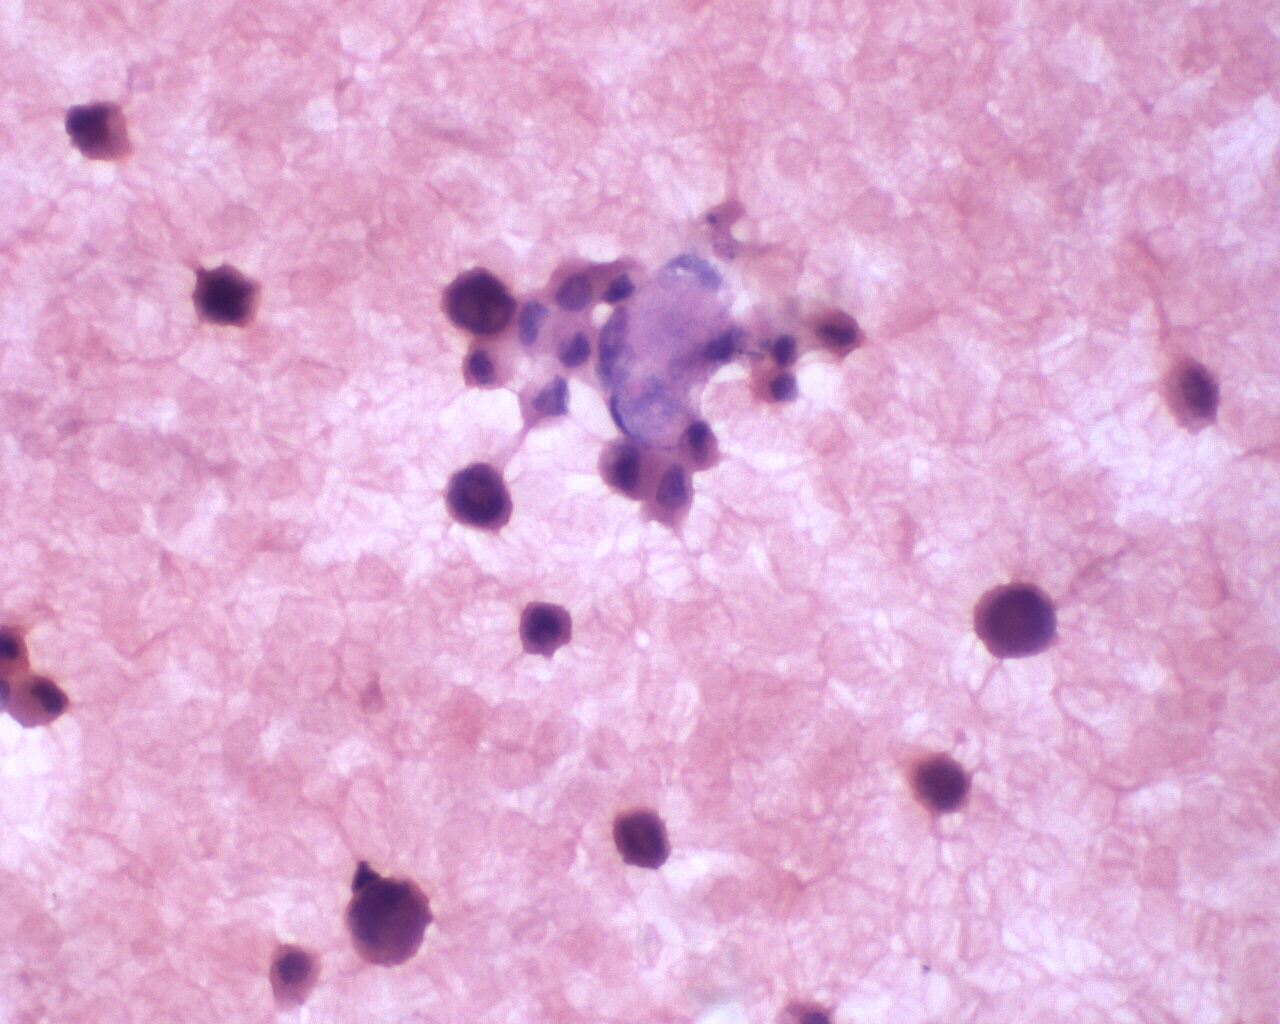ab: (343, 871, 440, 973), (974, 574, 1060, 664), (434, 260, 523, 340), (443, 456, 513, 538), (191, 259, 262, 334), (609, 802, 676, 875), (511, 597, 577, 656)
meso: (264, 941, 325, 1008)
